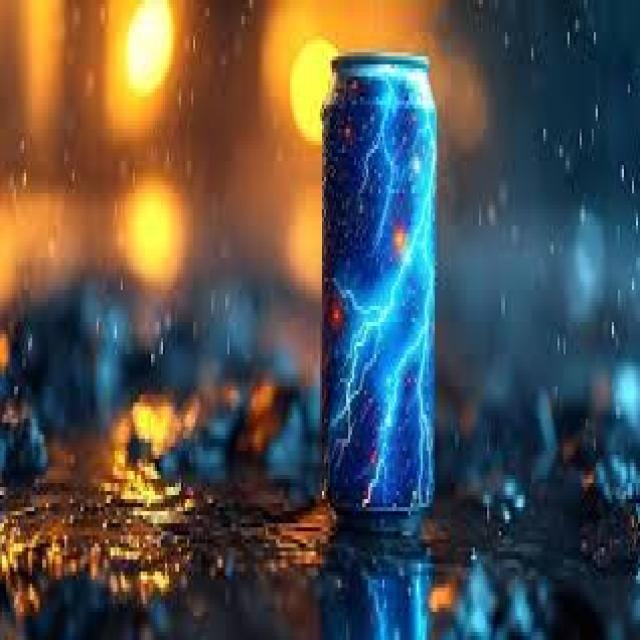Cans: (310, 40, 447, 519)
